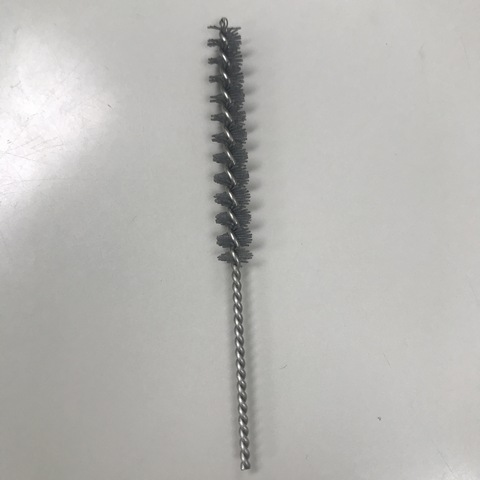Twist Brush-A: (205, 13, 259, 471)
